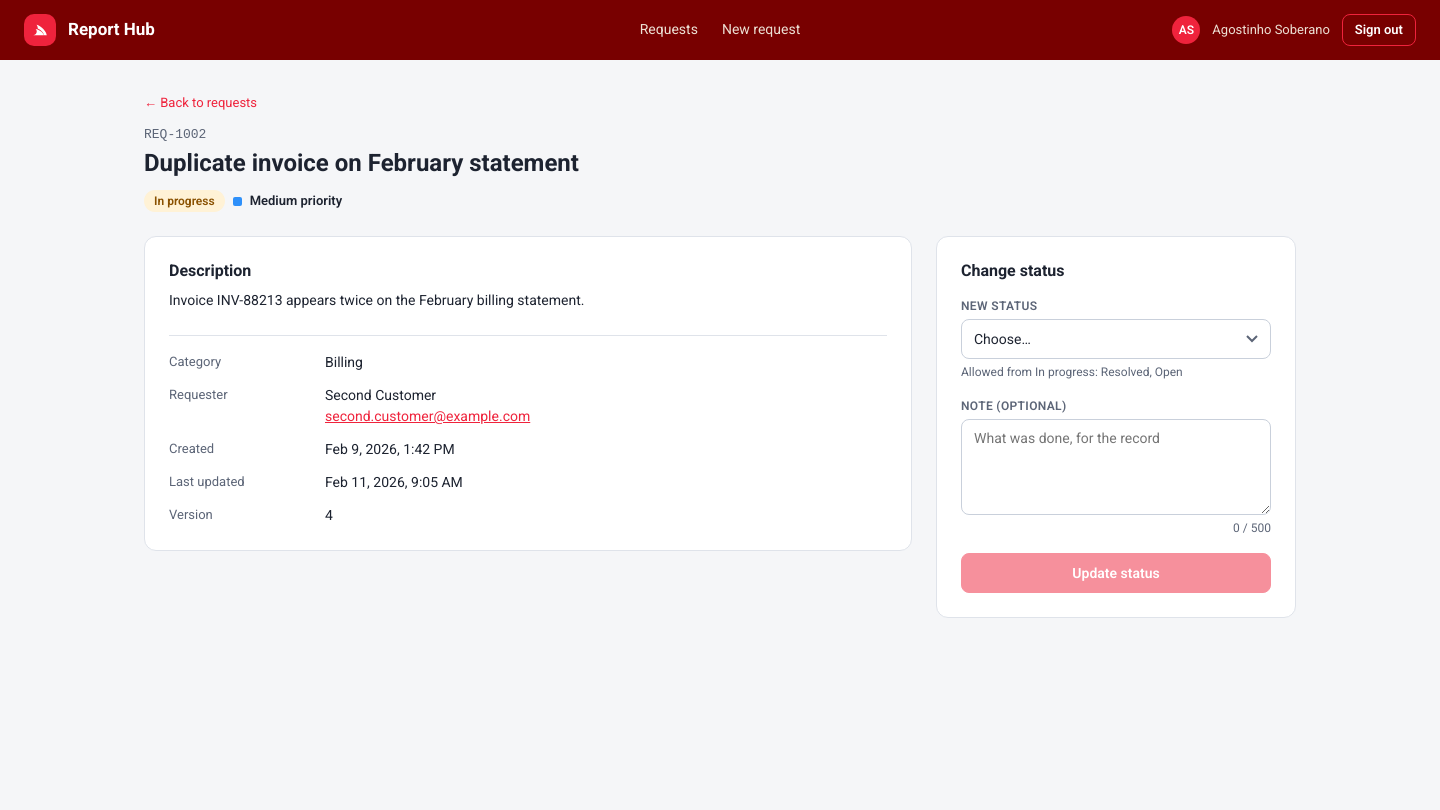
Scenario: sign-in › explains a 403 without signing the user out
Select "Resolved" in the dropdown labelled "New status" at x=1116, y=339, box [961,319,1271,359]
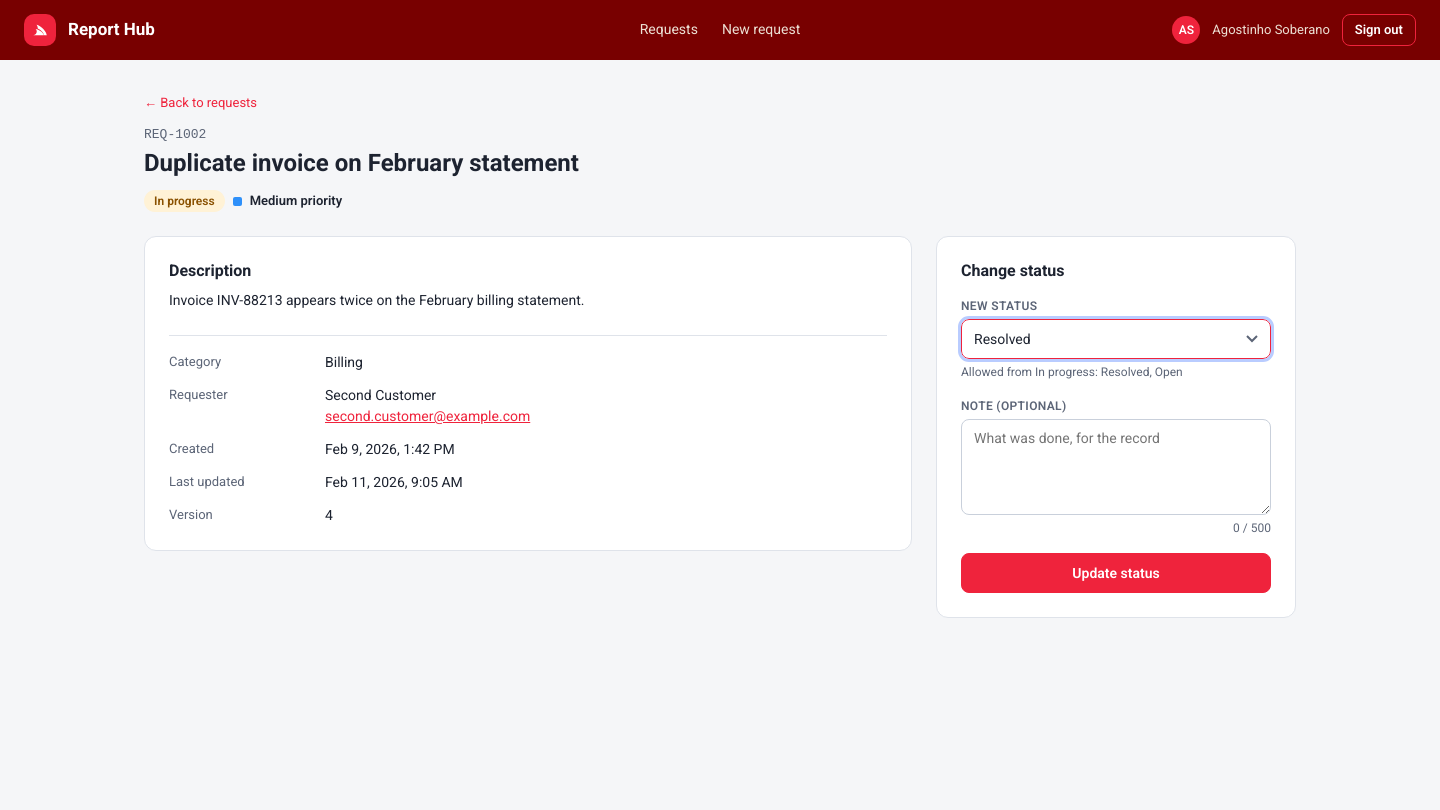
Click the button "Update status" at x=1116, y=573, box [961,553,1271,593]
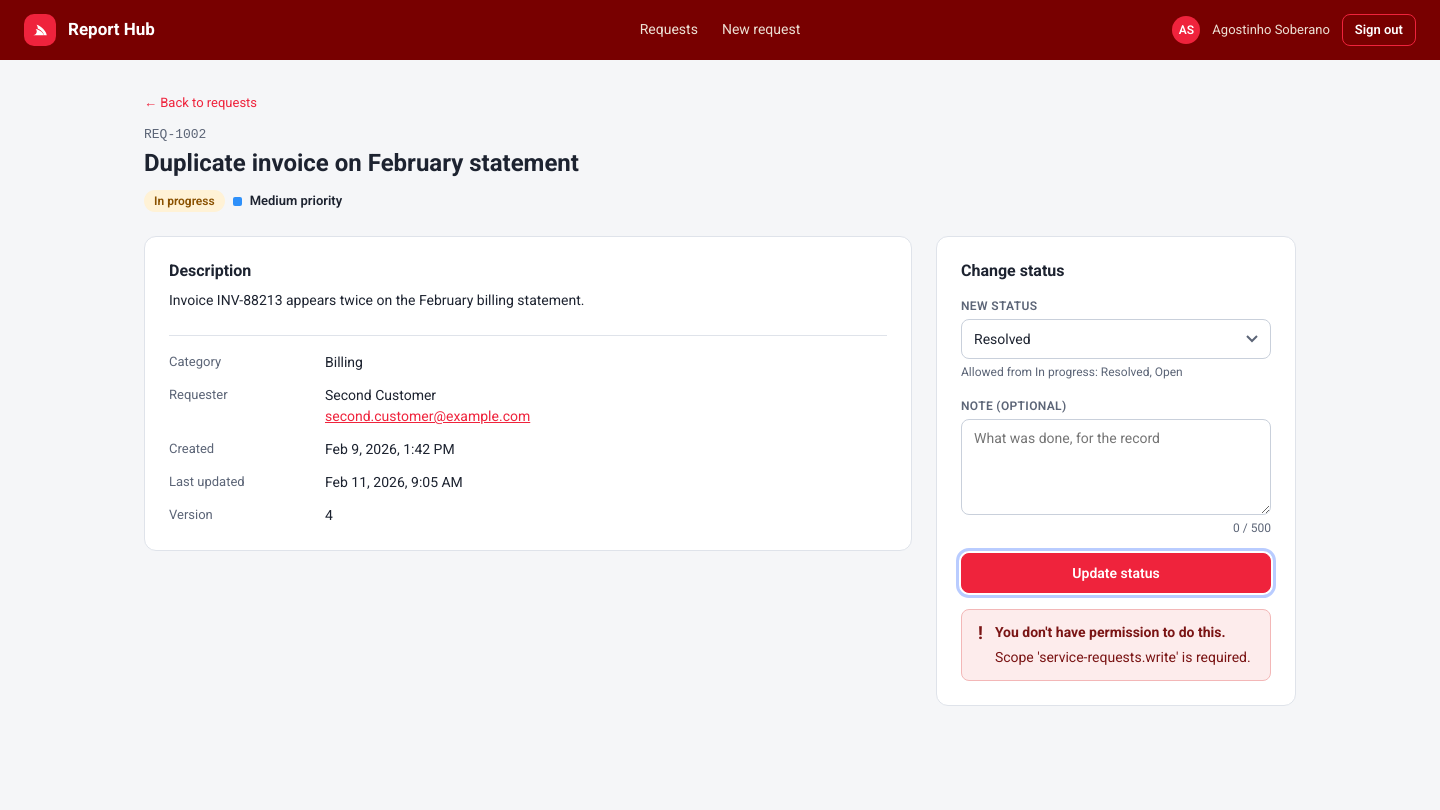
Check: the button "Sign out" is shown, box [1342,14,1416,46]
Check: the text "You don't have permission to do this." is shown, box [995,624,1226,640]
